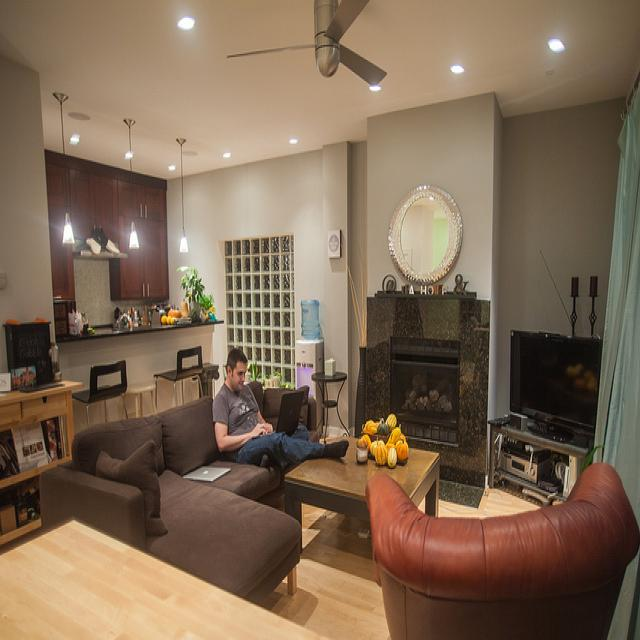chair: (362, 461, 640, 630), (70, 360, 135, 425), (152, 347, 204, 410)
dining table: (1, 519, 309, 629), (283, 432, 443, 525)
